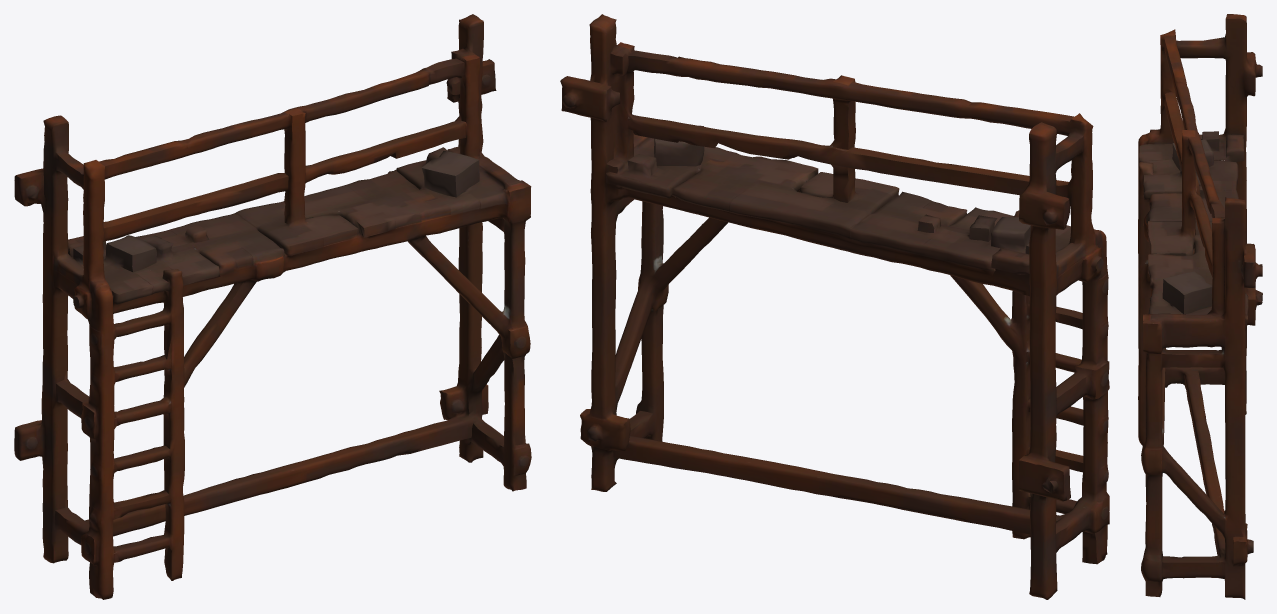
File: ladder_frame.glb
3 renders of one model, left to right at view 1: azimuth 30°, elevation 25°; view 2: azimuth 150°, elevation 25°; view 3: azimuth 270°, elevation 25°, orthographic. The views are drawn at different scales.
Parts seen in each view (by area): view 1: tripo_node_d1f1152d; view 2: tripo_node_d1f1152d; view 3: tripo_node_d1f1152d.
Part boxes in pixels (left/top/right/bottom): tripo_node_d1f1152d: left=14, top=14, right=531, bottom=599; tripo_node_d1f1152d: left=560, top=14, right=1109, bottom=599; tripo_node_d1f1152d: left=1138, top=14, right=1262, bottom=599.
Size of the model in its own units: 99.98 by 88.6 by 25.04.
Materials: 1 (1 with a texture image).
